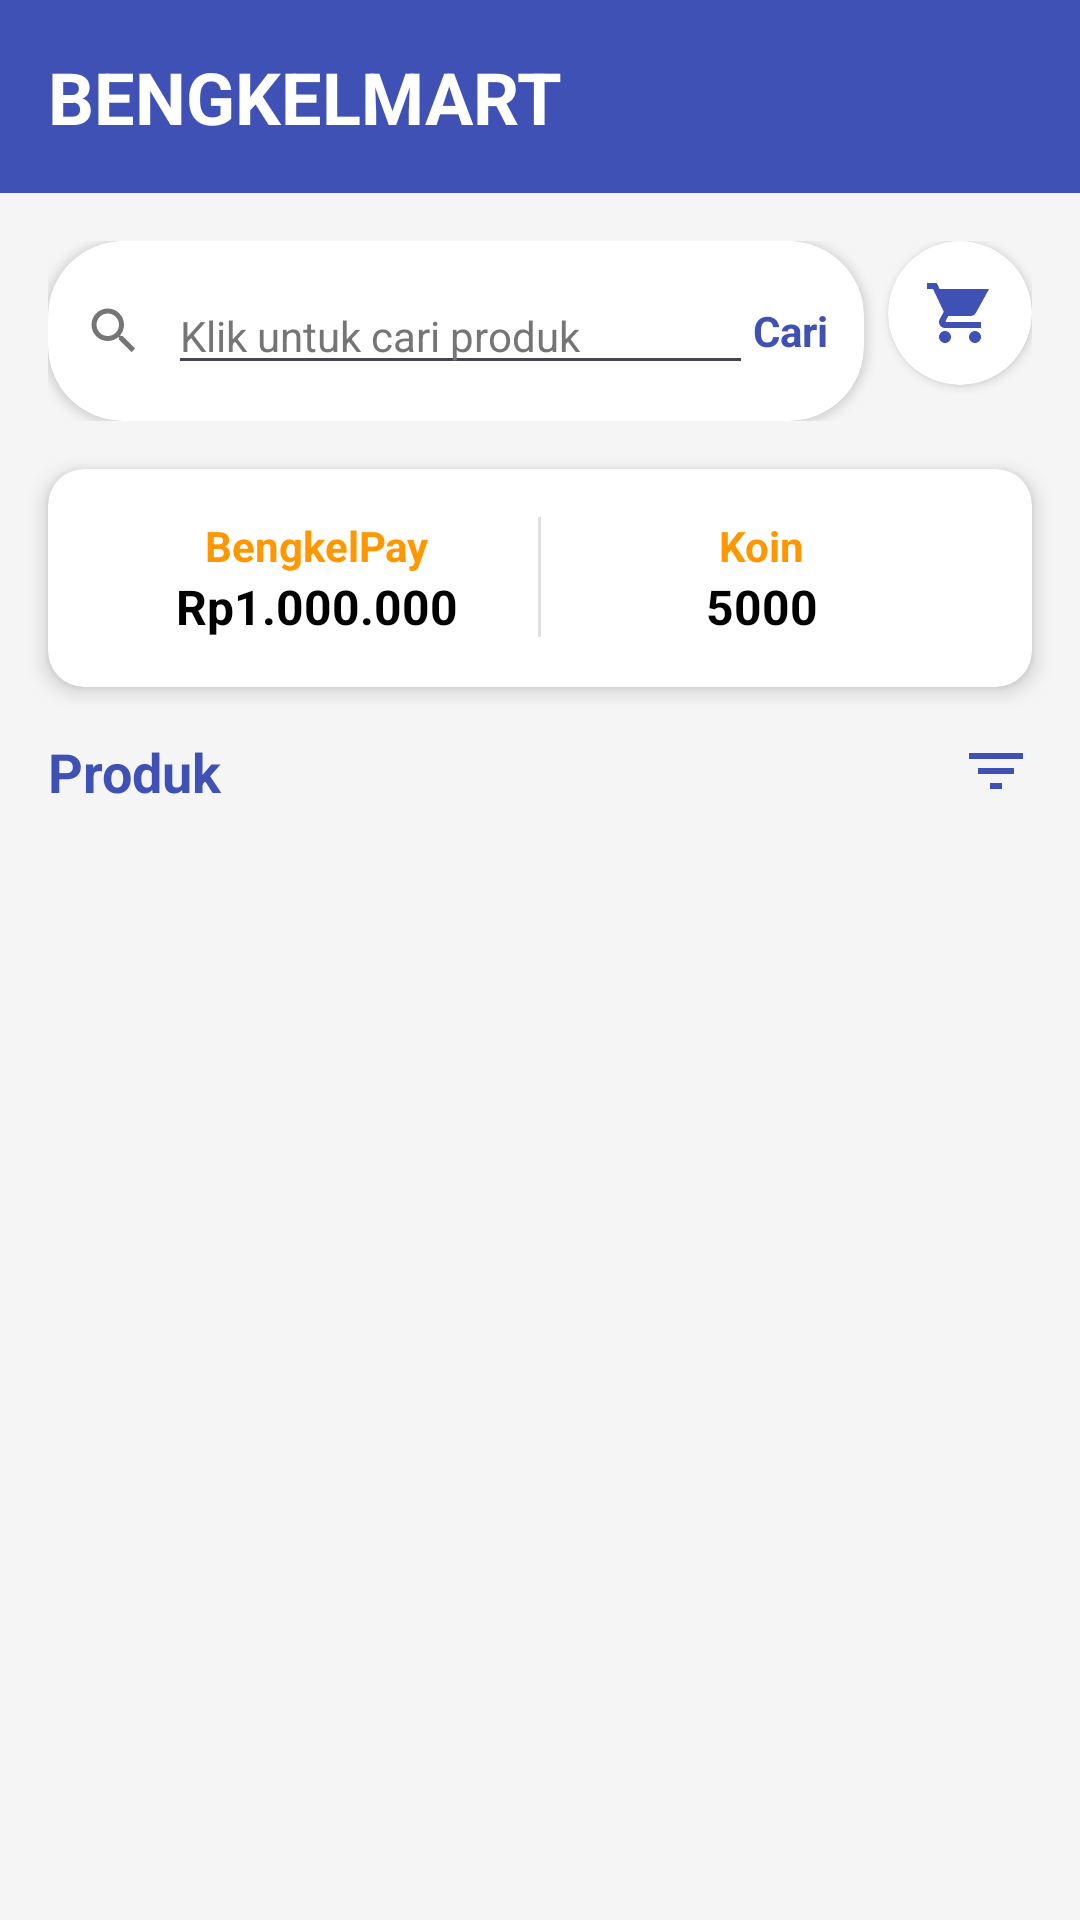

Screen size 1080 × 1920. Icon name, then its box in pixels as (x1, y1, x2, y2):
filter: (969, 753, 1023, 789)
search: (91, 308, 135, 352)
shopping cart: (927, 283, 989, 343)
